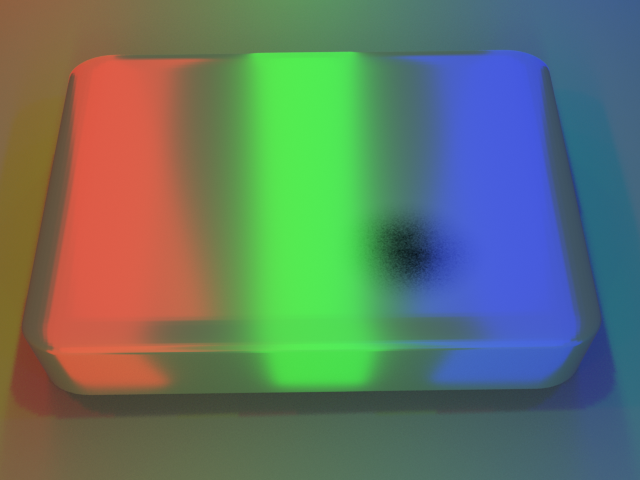stain: (306, 191, 540, 330)
